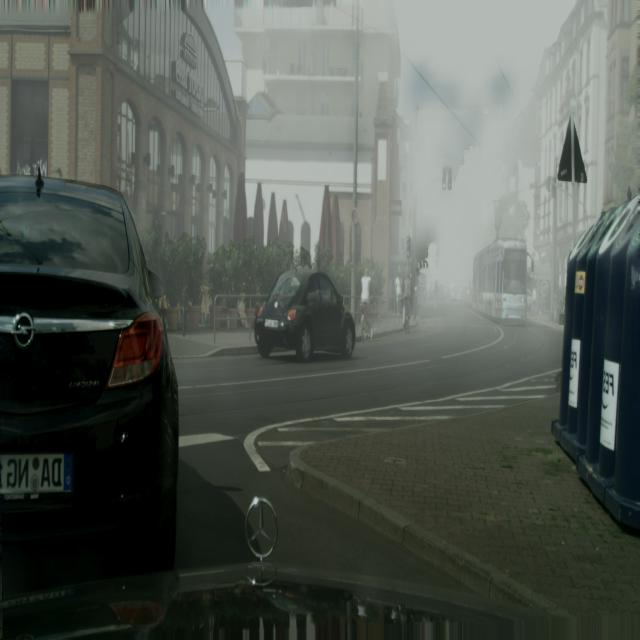bicycle: (473, 239, 527, 323)
bus: (360, 267, 374, 340), (402, 270, 412, 329), (395, 267, 403, 316), (434, 279, 438, 308)
person: (0, 166, 180, 581), (254, 269, 356, 362)
